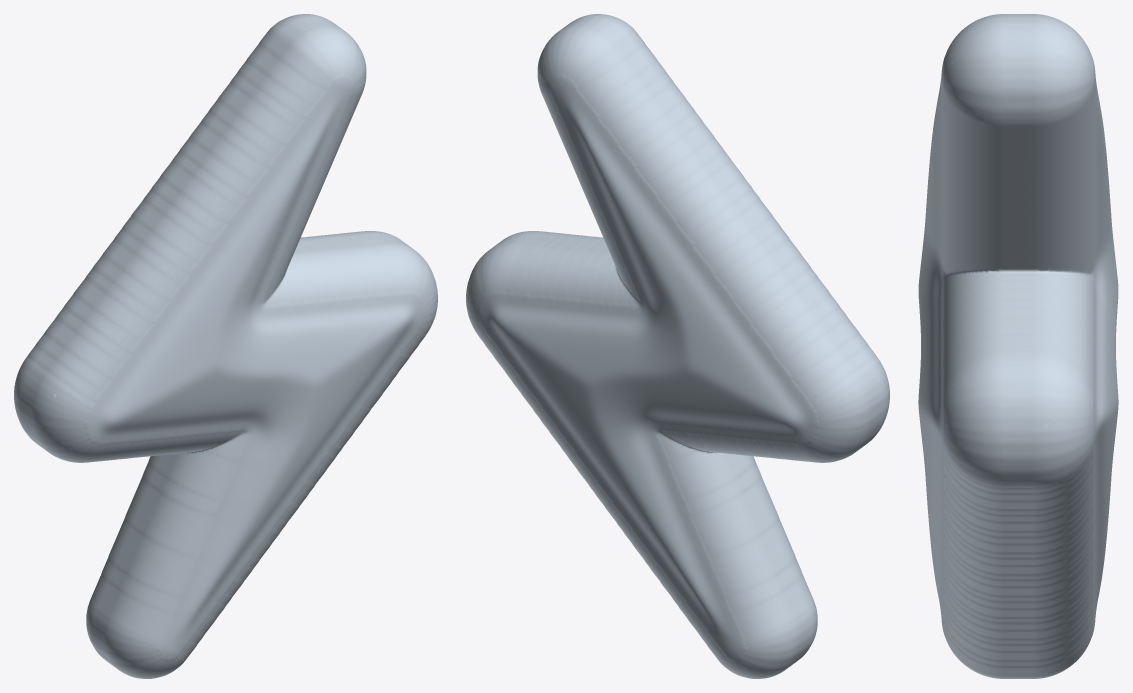
Rendered from lightning-bolt.obj.
3 views of the same model, side by side, from view 1: azimuth 30°, elevation 25°; view 2: azimuth 150°, elevation 25°; view 3: azimuth 270°, elevation 25° (orthographic). The views are drawn at different scales.
Bounding box in the file's own units: 1.38 × 2 × 0.4789.
